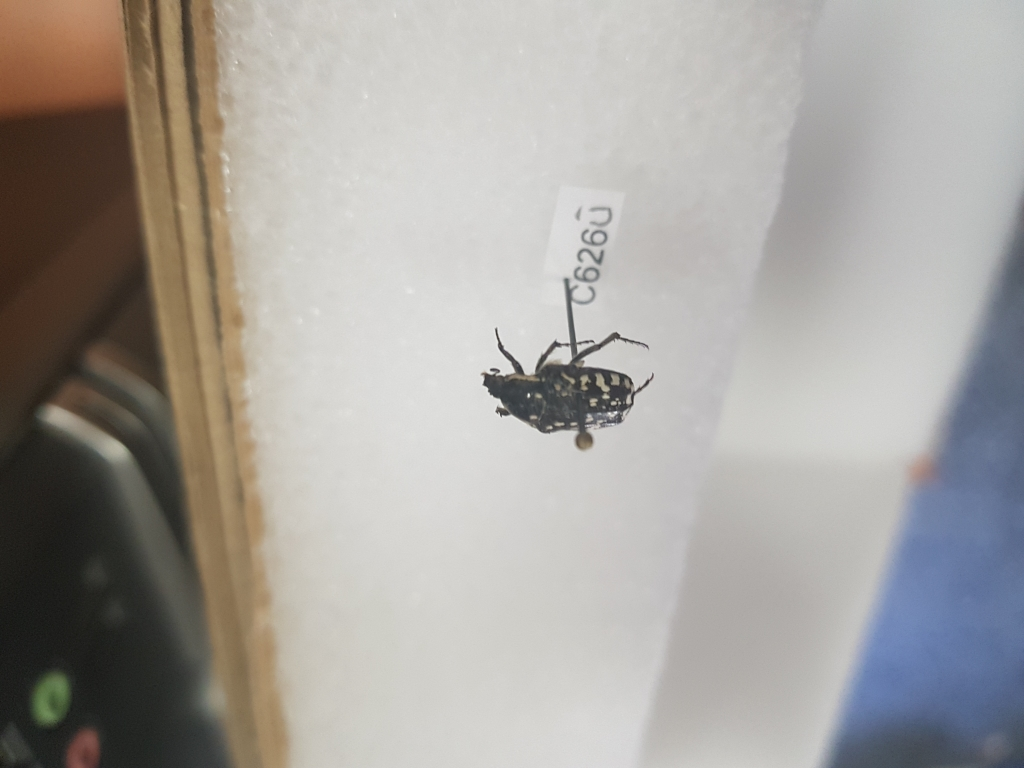Oxythyrea_funesta: (474, 321, 661, 433)
